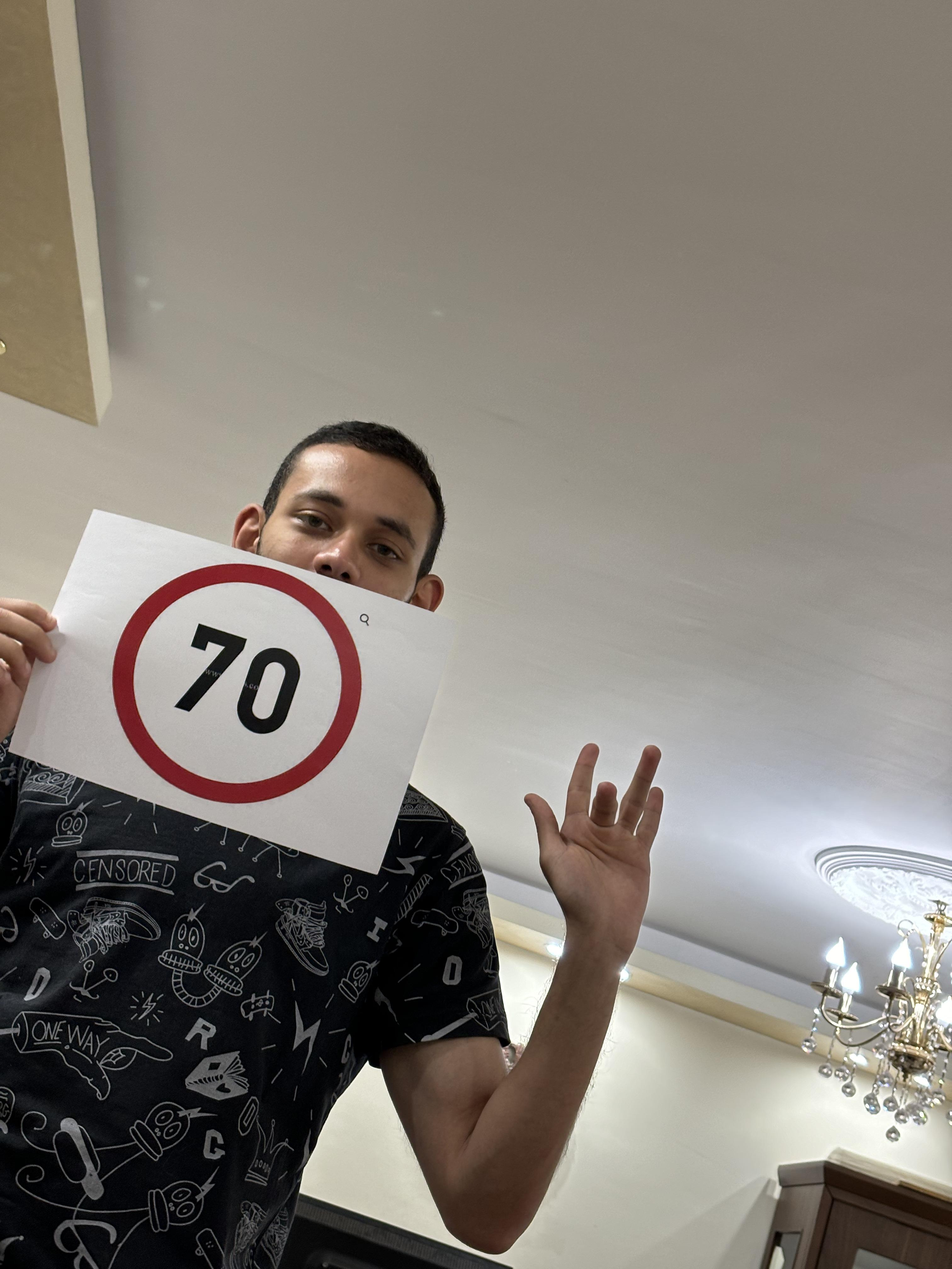70-Speed: (95, 548, 374, 812)
